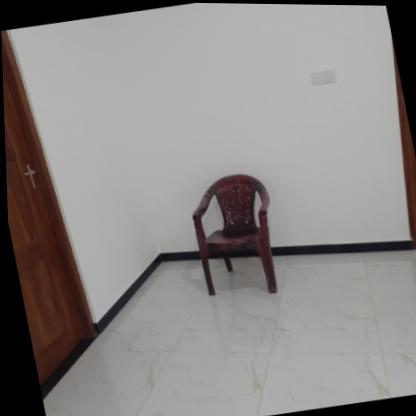Chair: (181, 168, 285, 303)
